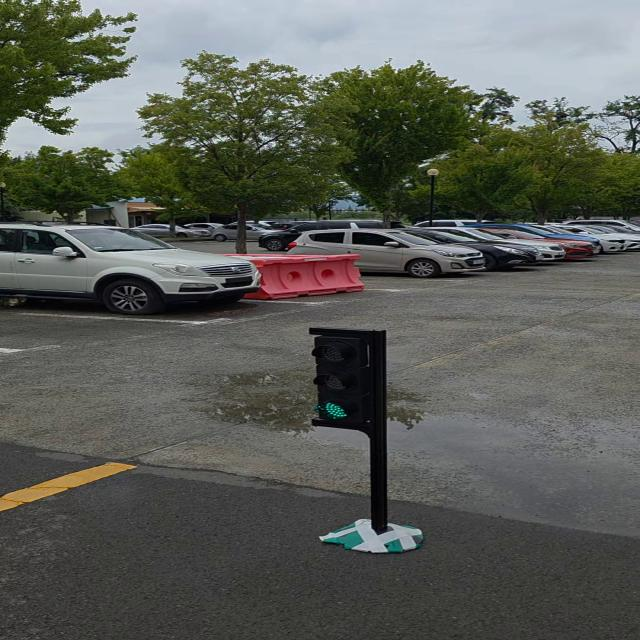green: (310, 328, 388, 432)
